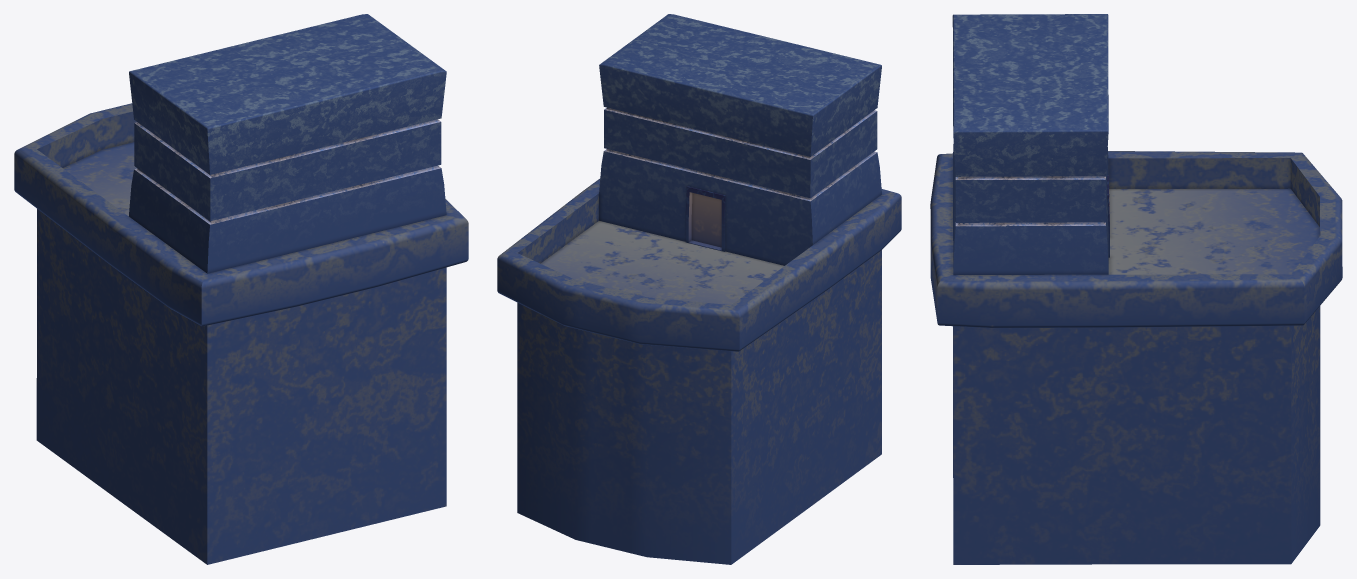
The model's file is Building1.fbx.
The picture shows the model from 3 angles, left to right: view 1: azimuth 30°, elevation 25°; view 2: azimuth 150°, elevation 25°; view 3: azimuth 270°, elevation 25°; orthographic projection. The views are drawn at different scales.
Visible parts, largest first — view 1: Cube.216, Cube.001; view 2: Cube.216, Cube.001; view 3: Cube.216, Cube.001.
Part boxes in pixels (bbox=[...]): Cube.216: bbox=[14, 103, 468, 564]; Cube.001: bbox=[129, 14, 446, 273]; Cube.216: bbox=[497, 178, 901, 564]; Cube.001: bbox=[599, 14, 881, 265]; Cube.216: bbox=[930, 151, 1342, 564]; Cube.001: bbox=[952, 14, 1109, 275].
Bounding box in the file's own units: 1131 × 1692 × 1452.
Materials: 2 (2 with a texture image).
